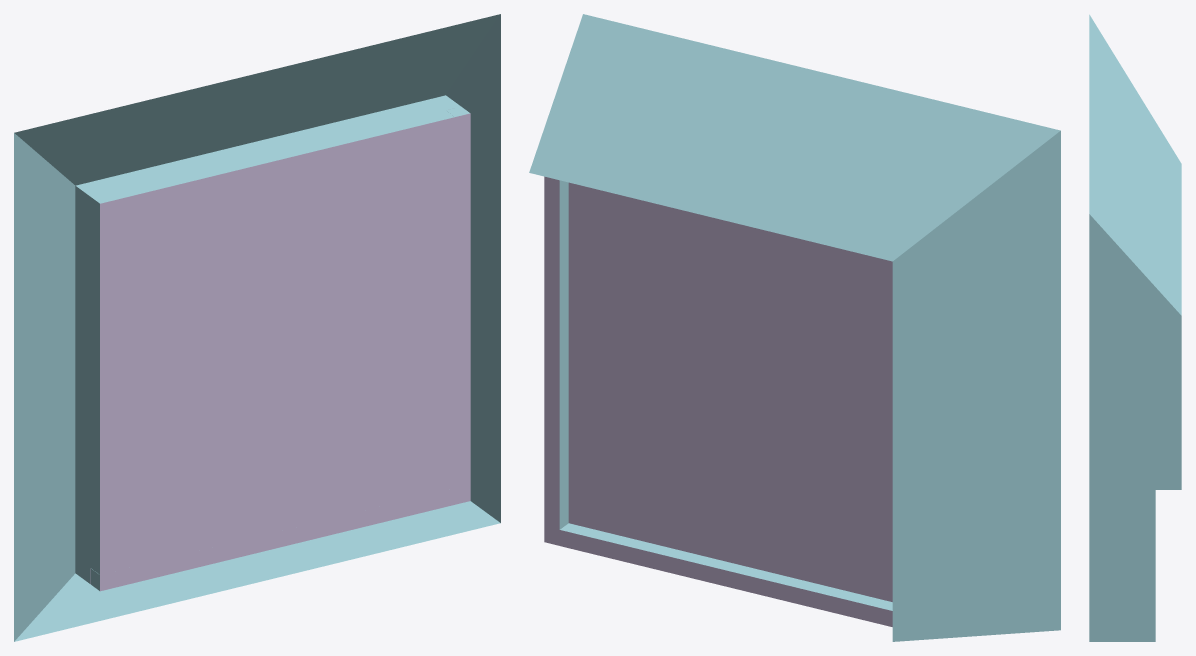
3 renders of one model, left to right at view 1: azimuth 30°, elevation 25°; view 2: azimuth 150°, elevation 25°; view 3: azimuth 270°, elevation 25°, orthographic. The views are drawn at different scales.
Visible parts, largest first — view 1: Object82; view 2: Object82; view 3: Object82.
Boxes of the visible parts, bbox=[...] form: Object82: bbox=[14, 14, 500, 641]; Object82: bbox=[529, 14, 1060, 641]; Object82: bbox=[1089, 14, 1181, 641].
Size of the model in its own units: 46008 by 45997 by 9004.
